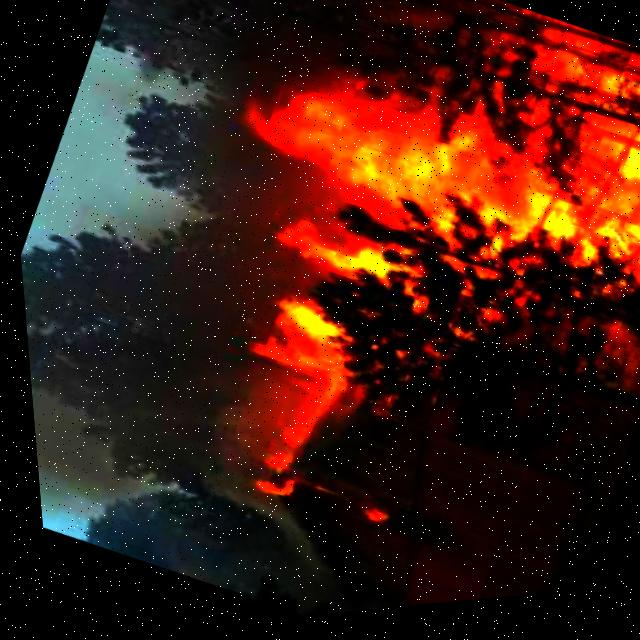Fire: (132, 0, 640, 537), (231, 381, 337, 519), (328, 493, 396, 553)
Smoke: (10, 141, 213, 517)
